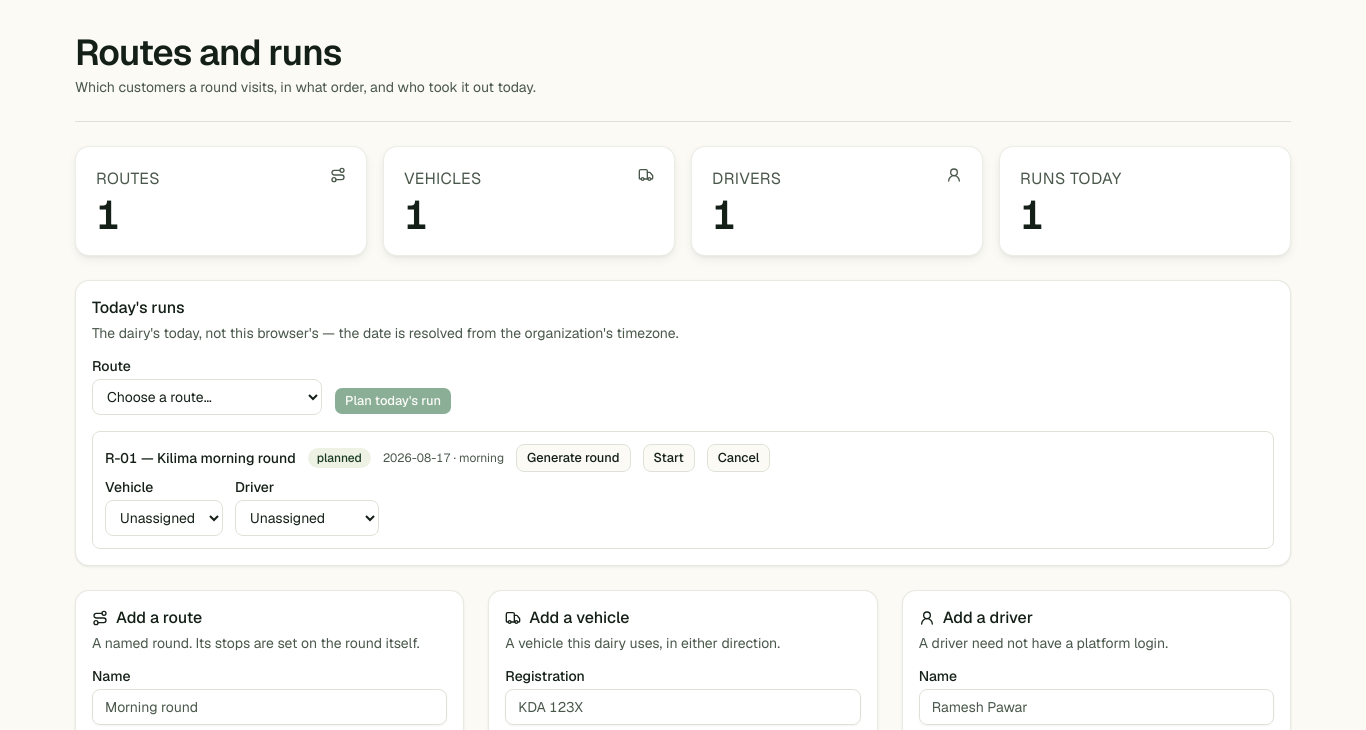
Test: routes and runs › shows the platform's refusal verbatim rather than a generic message
Click the button "Start": point(669, 458) x1=642 y1=444 x2=695 y2=472
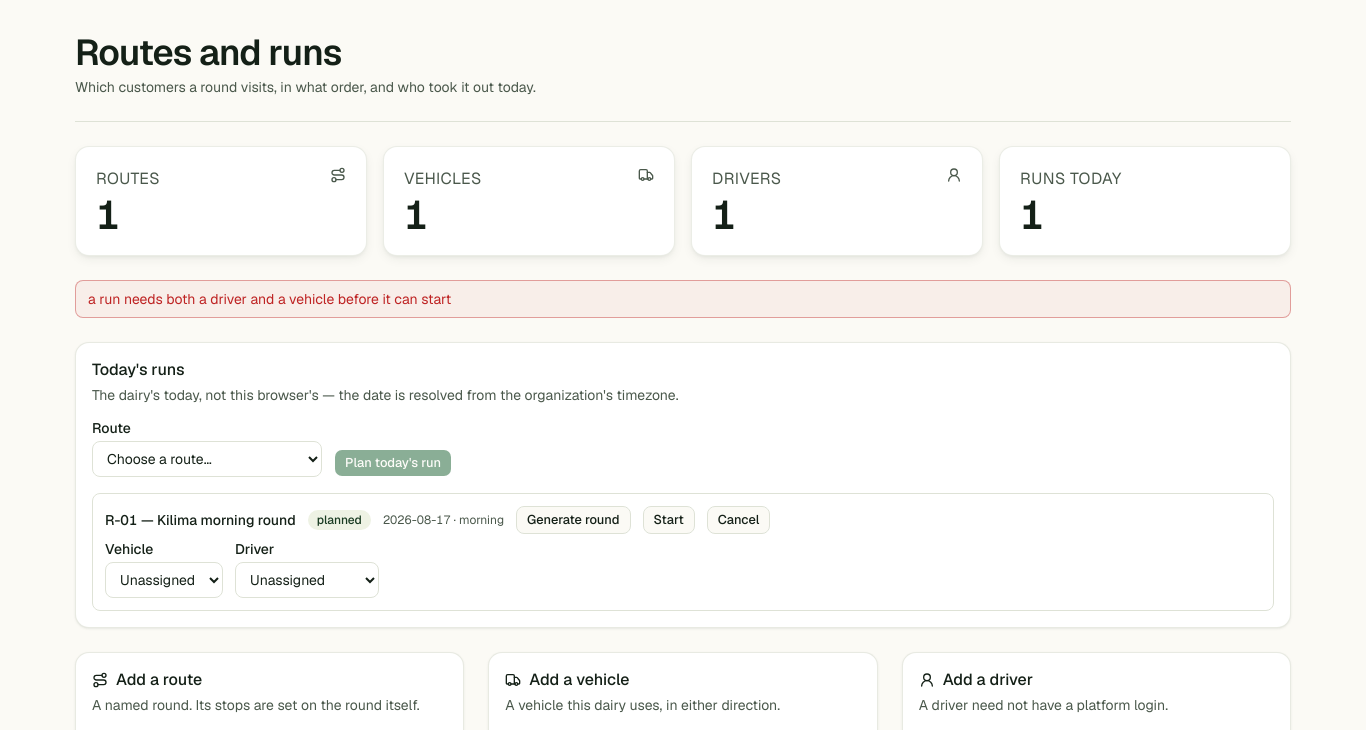
Check: the text "a run needs both a driver and a vehicle before it can start" is shown, box x1=75 y1=280 x2=1291 y2=318
